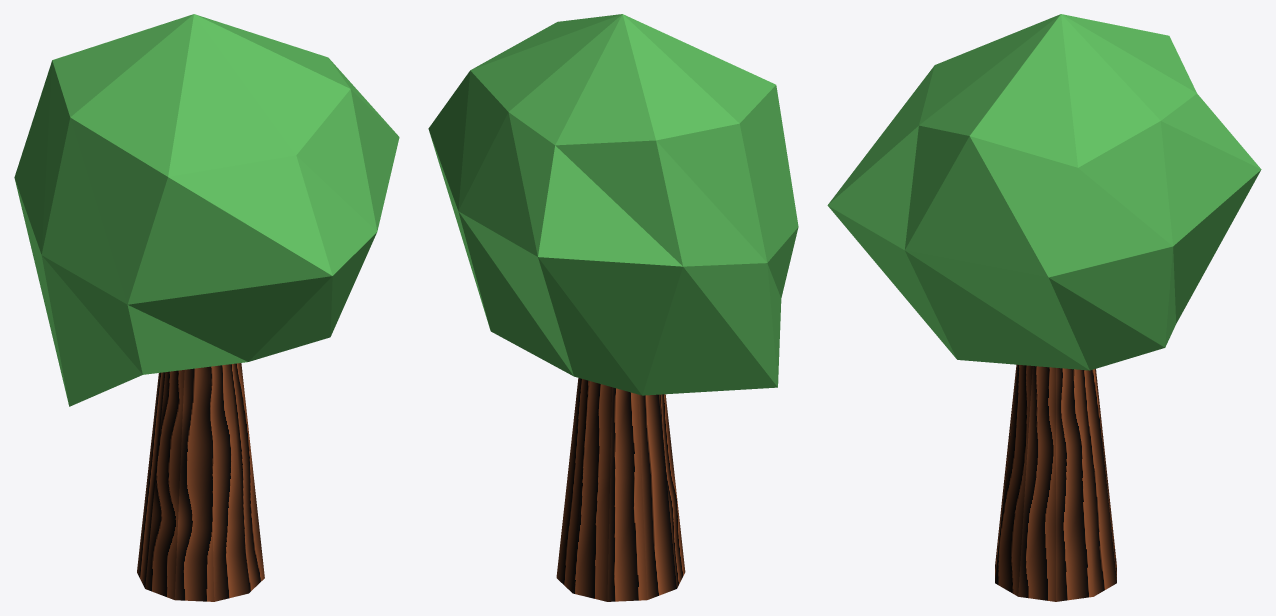
3 renders of one model, left to right at view 1: azimuth 30°, elevation 25°; view 2: azimuth 150°, elevation 25°; view 3: azimuth 270°, elevation 25°, orthographic.
Parts seen in each view (by area): view 1: sphere, trunk; view 2: sphere, trunk; view 3: sphere, trunk.
Part boxes in pixels (box(x1,y1,x2,y2)): sphere: box(14, 14, 399, 406); trunk: box(137, 363, 264, 601); sphere: box(428, 14, 798, 395); trunk: box(556, 378, 685, 601); sphere: box(827, 14, 1261, 370); trunk: box(995, 364, 1116, 601).
Size of the model in its own units: 15.57 by 24.01 by 16.91.
Materials: 2 (1 with a texture image).
